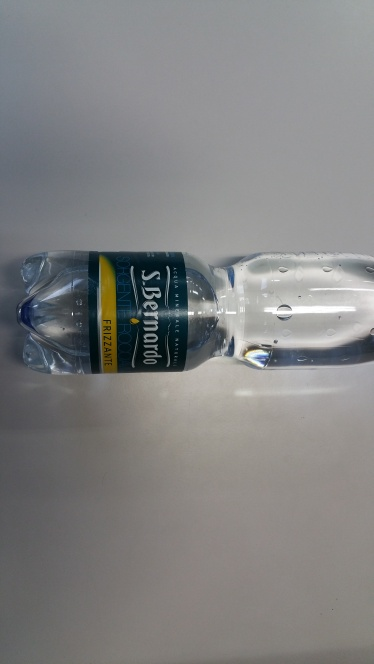bottle: (18, 247, 373, 375)
